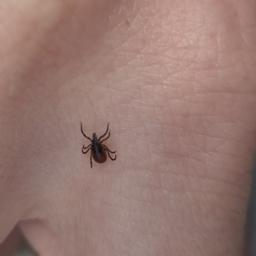Ixodes scapularis: (79, 122, 116, 166)
